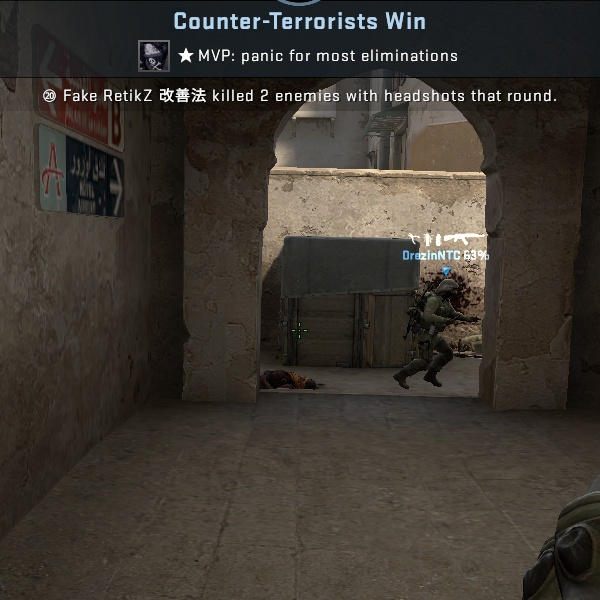ct_body: (402, 273, 468, 389)
